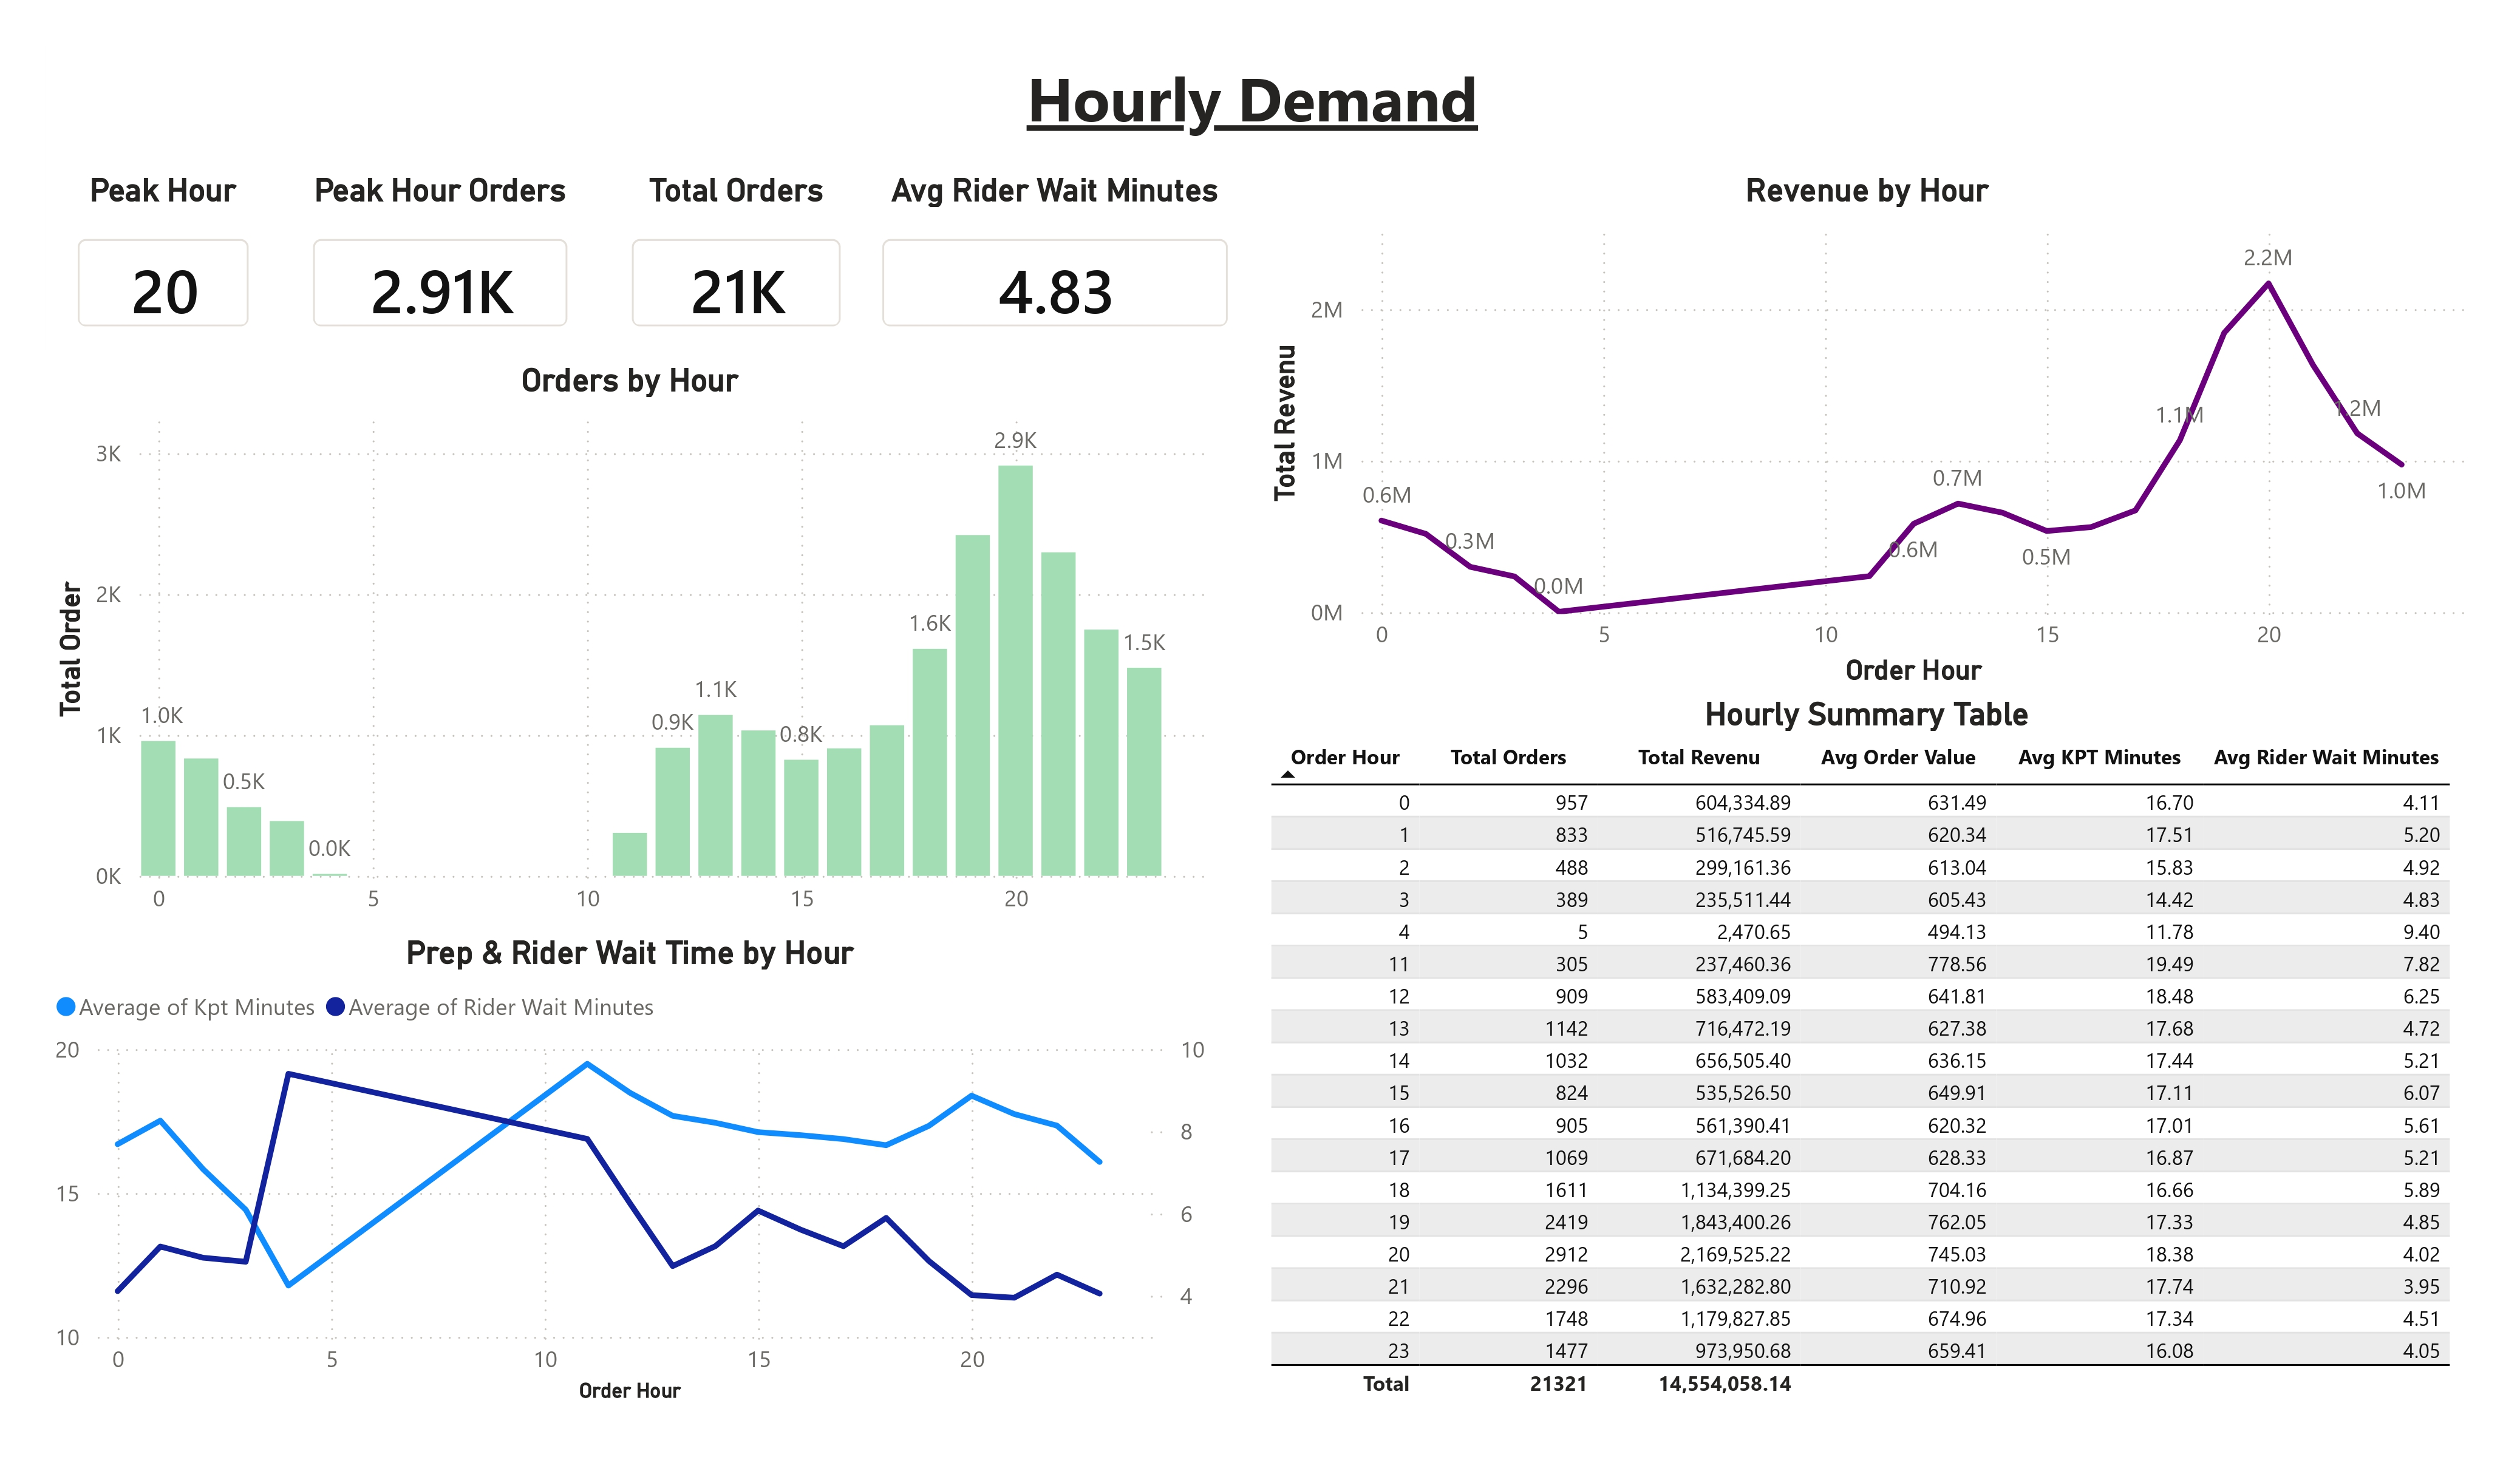

Layout of this report page (visuals, bound fields, positions):
{"tool":"powerbi","page":{"name":"Hourly Demand","canvas":[1280,720],"ordinal":1},"visuals":[{"type":"textbox","box":[512,0,254,54],"z":0},{"type":"cardVisual","title":"Peak Hour","fields":{"Data":["mart_hourly_demand.Peak Hour"]},"box":[0,66,124,100],"z":1000},{"type":"cardVisual","title":"Peak Hour Orders","fields":{"Data":["mart_hourly_demand.Peak Hour Orders"]},"box":[124,66,168,100],"z":2000},{"type":"lineChart","title":"Revenue by Hour","fields":{"Category":["mart_hourly_demand.order_hour"],"Y":["mart_hourly_demand.Total Revenu"]},"box":[640,66,640,276],"z":3000},{"type":"columnChart","title":"Orders by Hour","fields":{"Category":["mart_hourly_demand.order_hour"],"Y":["mart_hourly_demand.Total Order"]},"box":[0,166,616,302],"z":4000},{"type":"lineChart","title":"Prep & Rider Wait Time by Hour","fields":{"Category":["mart_hourly_demand.order_hour"],"Y":["Avg(mart_hourly_demand.avg_kpt_minutes)"],"Y2":["Avg(mart_hourly_demand.avg_rider_wait_minutes)"]},"box":[0,468,616,252],"z":5000},{"type":"tableEx","title":"Hourly Summary Table","fields":{"Values":["mart_hourly_demand.order_hour","mart_hourly_demand.Total Order","mart_hourly_demand.Total Revenu","mart_hourly_demand.avg_order_value","mart_hourly_demand.avg_kpt_minutes","mart_hourly_demand.avg_rider_wait_minutes"]},"box":[640,342,640,378],"z":6000},{"type":"cardVisual","title":"Total Orders","fields":{"Data":["mart_hourly_demand.Total Order"]},"box":[292,66,144,100],"z":7000},{"type":"cardVisual","title":"Avg Rider Wait Minutes","fields":{"Data":["mart_hourly_demand.Avg Rider Wait Minutes"]},"box":[424,66,216,100],"z":8000}]}

Visuals, with their boxes on the page's 1280x720 design canvas (x1, y1, x2, y2). These are canvas units, not pixel positions in the 2520x1457 screenshot, which may show the page scaled, cropped or inside an application window:
textbox: <box>512,0,766,54</box>
"Peak Hour" cardVisual: <box>0,66,124,166</box>
"Peak Hour Orders" cardVisual: <box>124,66,292,166</box>
"Revenue by Hour" lineChart: <box>640,66,1280,342</box>
"Orders by Hour" columnChart: <box>0,166,616,468</box>
"Prep & Rider Wait Time by Hour" lineChart: <box>0,468,616,720</box>
"Hourly Summary Table" tableEx: <box>640,342,1280,720</box>
"Total Orders" cardVisual: <box>292,66,436,166</box>
"Avg Rider Wait Minutes" cardVisual: <box>424,66,640,166</box>
